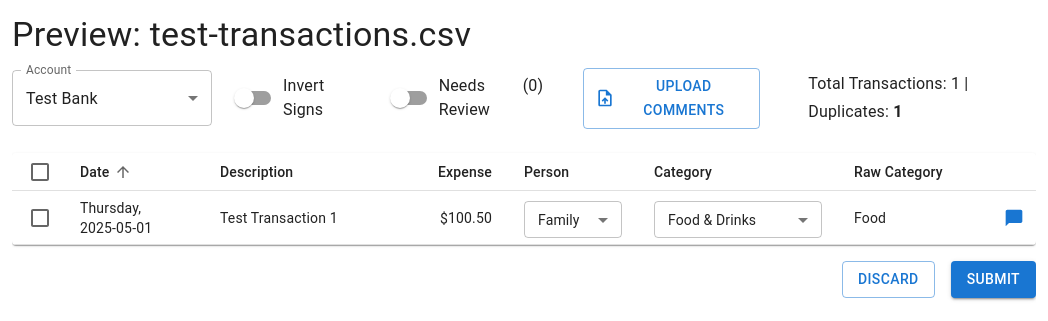
Test case: PreviewPage › displays error if Submit fails
Check: the text "Test Transaction 1" is shown, box [204,191,396,245]
Click the button "Submit" at (993, 280), box [951,261,1036,298]
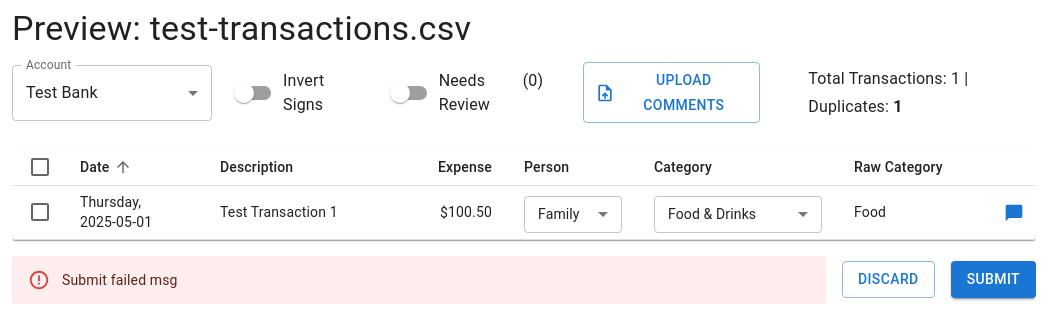
Check: the text "Submit failed msg" is shown, box [62,272,178,288]
